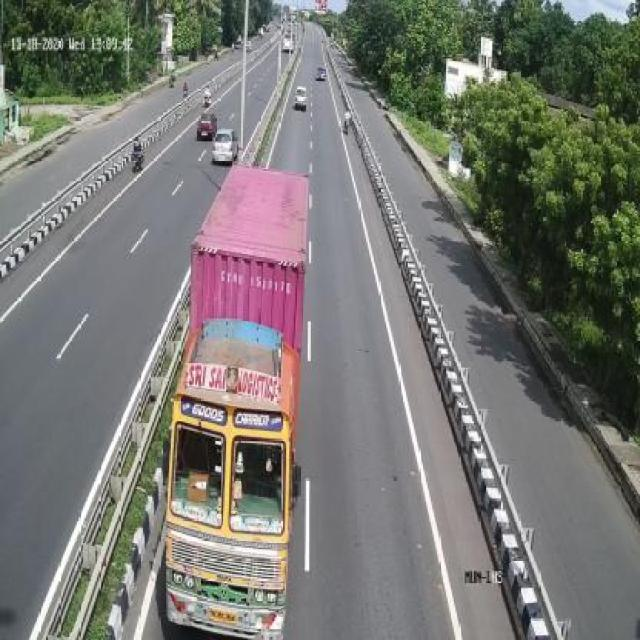car: (212, 125, 238, 169), (290, 83, 312, 112)
